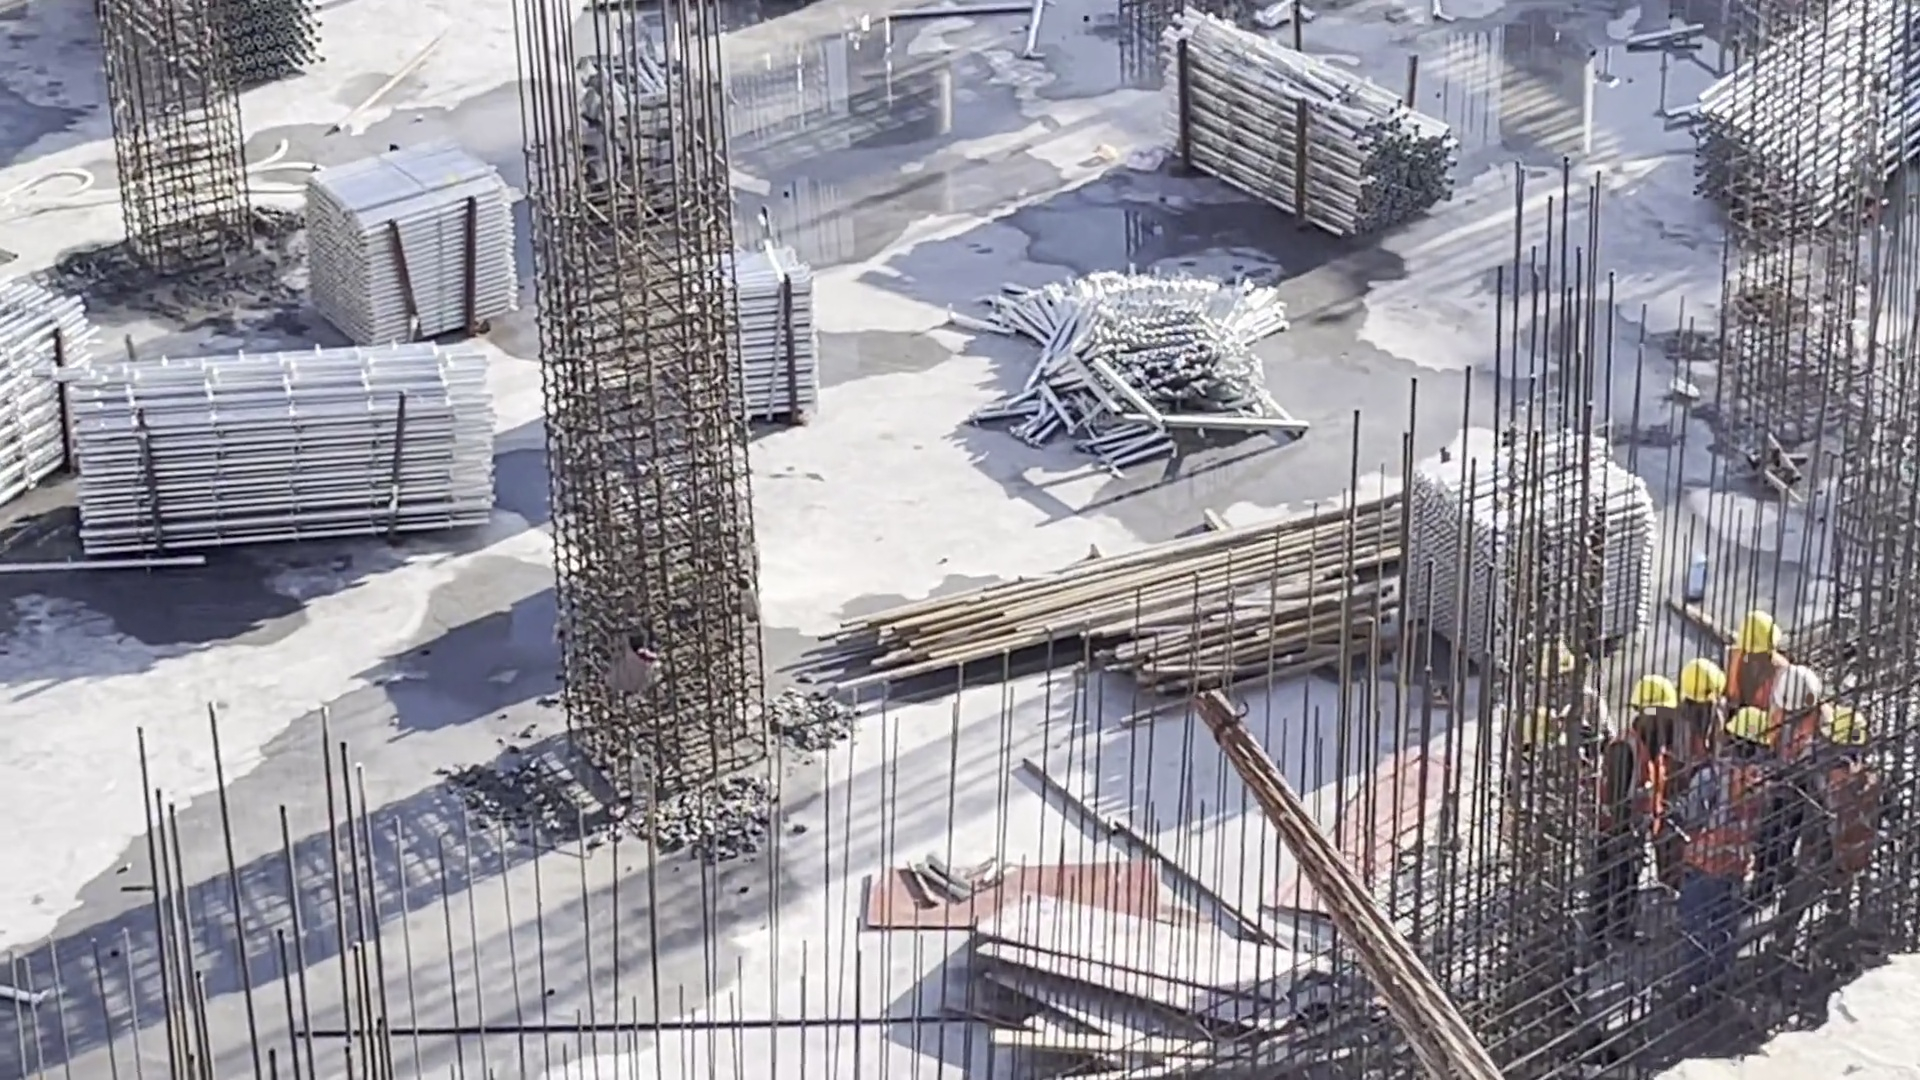board: (1005, 918, 1294, 1029)
helmet: (1733, 612, 1777, 658), (1818, 705, 1865, 750), (1773, 665, 1819, 706), (1683, 664, 1722, 706), (1633, 677, 1675, 709), (1730, 710, 1764, 744)
person: (1681, 708, 1794, 970), (1790, 697, 1893, 968), (1592, 671, 1681, 959), (1658, 653, 1724, 900), (1763, 663, 1830, 805), (1715, 608, 1792, 731)
scaffold: (35, 400, 524, 517), (1160, 29, 1425, 227), (1420, 457, 1652, 665), (1707, 1, 1920, 219), (1040, 291, 1277, 456), (331, 154, 513, 332), (692, 253, 817, 423), (1, 295, 119, 437), (188, 1, 317, 79)
vest: (1689, 764, 1751, 869), (1607, 736, 1663, 839), (1667, 713, 1717, 766), (1726, 662, 1781, 708), (1770, 712, 1809, 747)
